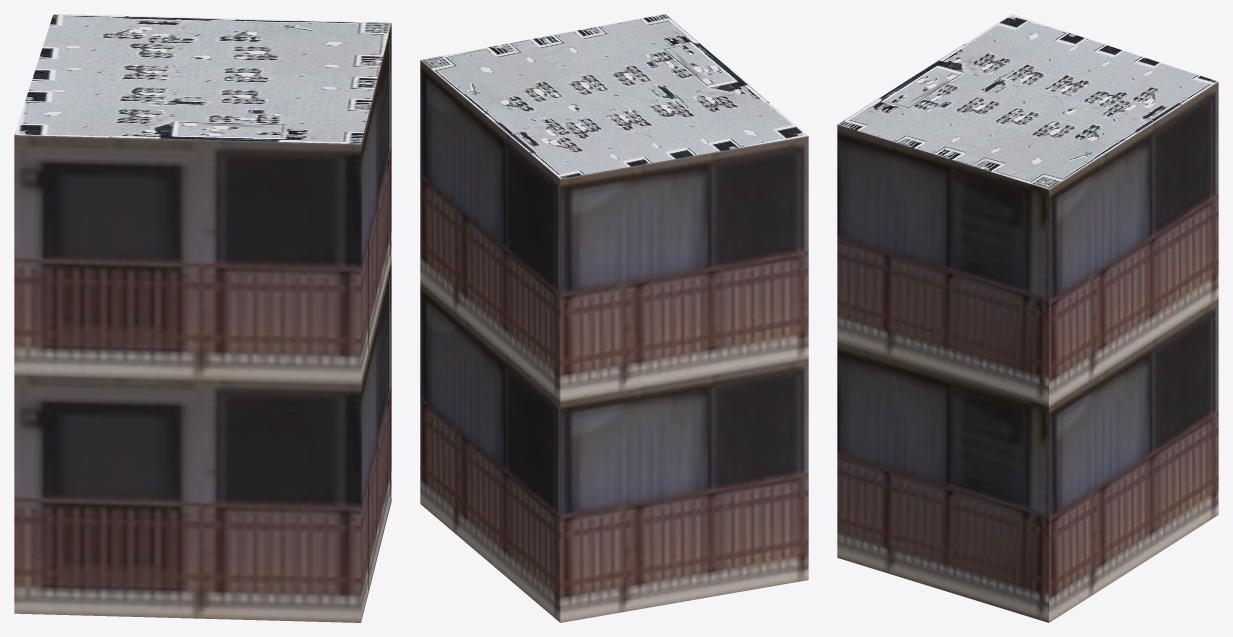
File: ResTex__2231.fbx
The picture shows the model from 3 angles, left to right: view 1: azimuth 30°, elevation 25°; view 2: azimuth 150°, elevation 25°; view 3: azimuth 270°, elevation 25°; orthographic projection. The views are drawn at different scales.
Parts seen in each view (by area): view 1: CityEngineMaterial_6_m, CityEngineMaterial_4_m; view 2: CityEngineMaterial_6_m, CityEngineMaterial_4_m; view 3: CityEngineMaterial_6_m, CityEngineMaterial_4_m.
Boxes of the visible parts, left/top/right/bottom form: CityEngineMaterial_6_m: left=14, top=23, right=391, bottom=622; CityEngineMaterial_4_m: left=14, top=14, right=391, bottom=144; CityEngineMaterial_6_m: left=420, top=60, right=808, bottom=622; CityEngineMaterial_4_m: left=421, top=14, right=807, bottom=178; CityEngineMaterial_6_m: left=837, top=82, right=1218, bottom=622; CityEngineMaterial_4_m: left=838, top=14, right=1217, bottom=189.
Bounding box in the file's own units: 5.22 × 6 × 4.78.
Materials: 2 (2 with a texture image).
